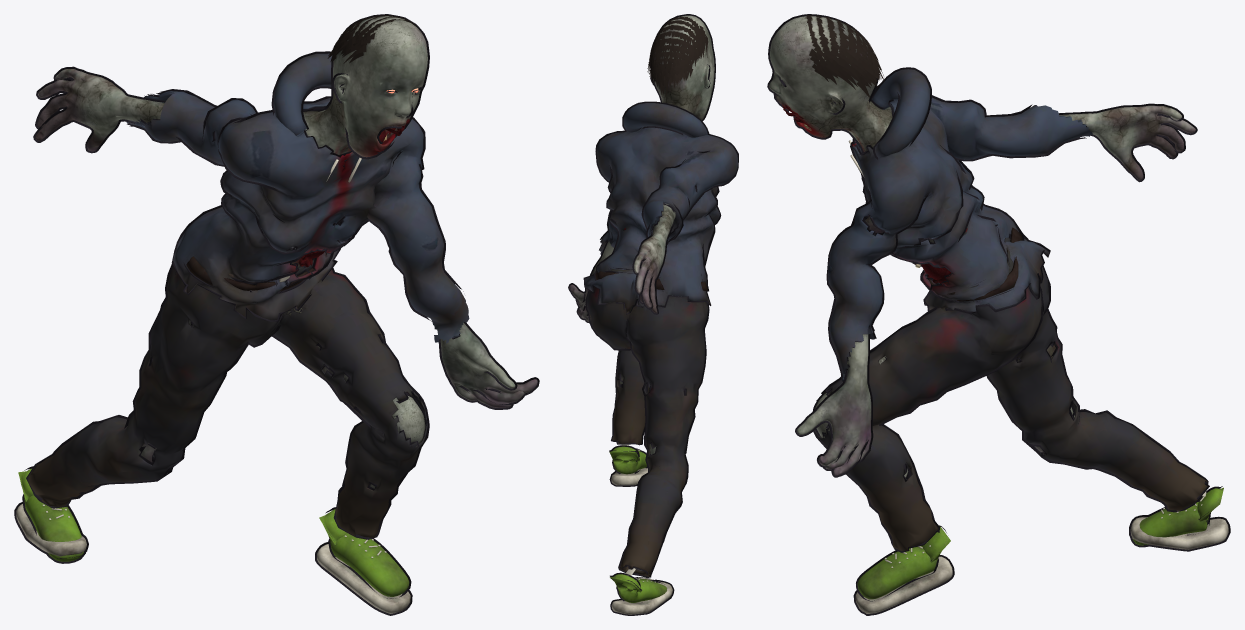
The model's file is runner-v2.glb.
3 renders of one model, left to right at view 1: azimuth 30°, elevation 25°; view 2: azimuth 150°, elevation 25°; view 3: azimuth 270°, elevation 25°, orthographic. The views are drawn at different scales.
Parts seen in each view (by area): view 1: Runner hoodie, Runner pants, Runner body, Runner hoodie hull, Runner pants hull, Runner body hull, Runner L shoe, Runner hood, Runner R shoe, Runner L sole, Runner hair, Runner R sole (+1 smaller); view 2: Runner pants, Runner hoodie, Runner body, Runner hair, Runner hoodie hull, Runner hood, Runner pants hull, Runner body hull, Runner R shoe, Runner L shoe, Runner R sole, Runner L sole (+1 smaller); view 3: Runner pants, Runner hoodie, Runner body, Runner hoodie hull, Runner hair, Runner pants hull, Runner hood, Runner body hull, Runner L shoe, Runner R shoe, Runner L sole, Runner R sole (+1 smaller).
Boxes of the visible parts, <box> form: Runner hoodie: <box>126,91,469,343</box>; Runner pants: <box>28,258,427,537</box>; Runner body: <box>35,16,537,488</box>; Runner hoodie hull: <box>127,89,463,339</box>; Runner pants hull: <box>26,258,429,539</box>; Runner body hull: <box>33,14,539,448</box>; Runner L shoe: <box>319,509,409,596</box>; Runner hood: <box>273,53,332,135</box>; Runner R shoe: <box>18,468,83,561</box>; Runner L sole: <box>317,544,410,613</box>; Runner hair: <box>327,15,416,63</box>; Runner R sole: <box>16,504,86,556</box>; Runner pants: <box>587,269,707,576</box>; Runner hoodie: <box>584,127,737,313</box>; Runner body: <box>569,15,714,570</box>; Runner hair: <box>647,16,708,95</box>; Runner hoodie hull: <box>583,130,738,314</box>; Runner hood: <box>623,103,707,137</box>; Runner pants hull: <box>585,267,709,577</box>; Runner body hull: <box>568,14,715,571</box>; Runner R shoe: <box>610,574,670,602</box>; Runner L shoe: <box>609,446,646,474</box>; Runner R sole: <box>611,581,672,614</box>; Runner L sole: <box>611,468,647,485</box>; Runner pants: <box>814,237,1207,550</box>; Runner hoodie: <box>827,88,1092,380</box>; Runner body: <box>769,16,1195,477</box>; Runner hoodie hull: <box>826,85,1086,381</box>; Runner hair: <box>805,15,885,97</box>; Runner pants hull: <box>813,238,1209,552</box>; Runner hood: <box>872,69,930,157</box>; Runner body hull: <box>767,14,1197,477</box>; Runner L shoe: <box>857,525,950,599</box>; Runner R shoe: <box>1133,487,1223,545</box>; Runner L sole: <box>855,556,952,613</box>; Runner R sole: <box>1130,516,1228,549</box>.
Size of the model in its own units: 0.7584 by 1.45 by 1.03.
26 materials, 21 textured.
